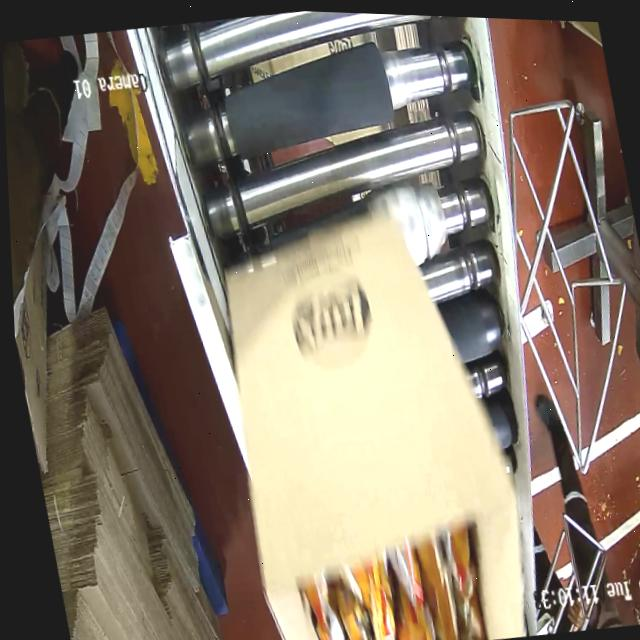FRENCH_CHEESE: (267, 518, 488, 640)
